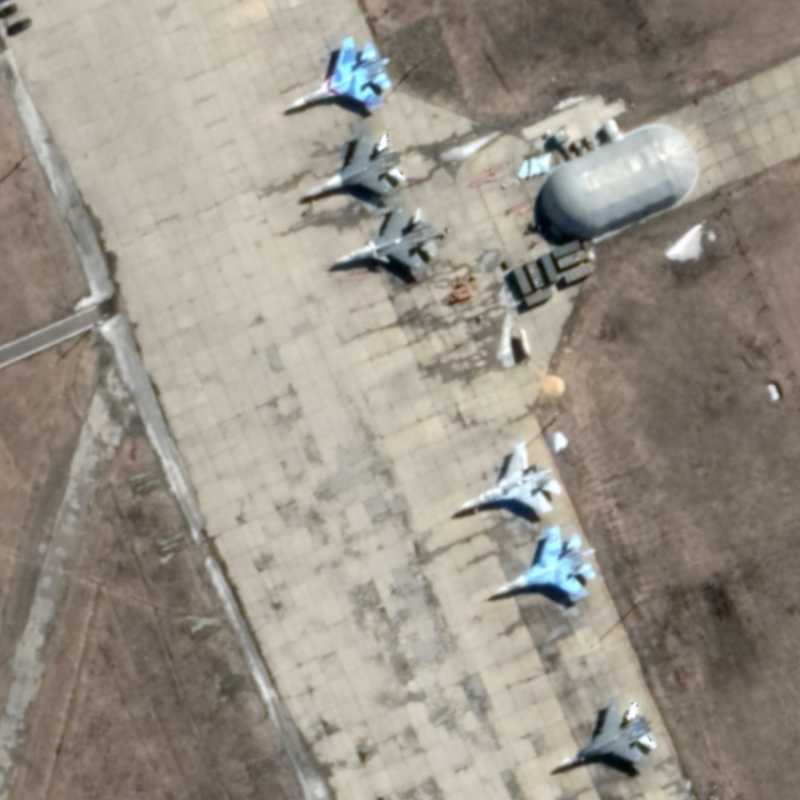A1: (488, 522, 599, 605), (283, 33, 395, 113), (455, 439, 565, 516), (299, 124, 408, 201), (557, 694, 661, 771)
A19: (334, 202, 441, 275)
